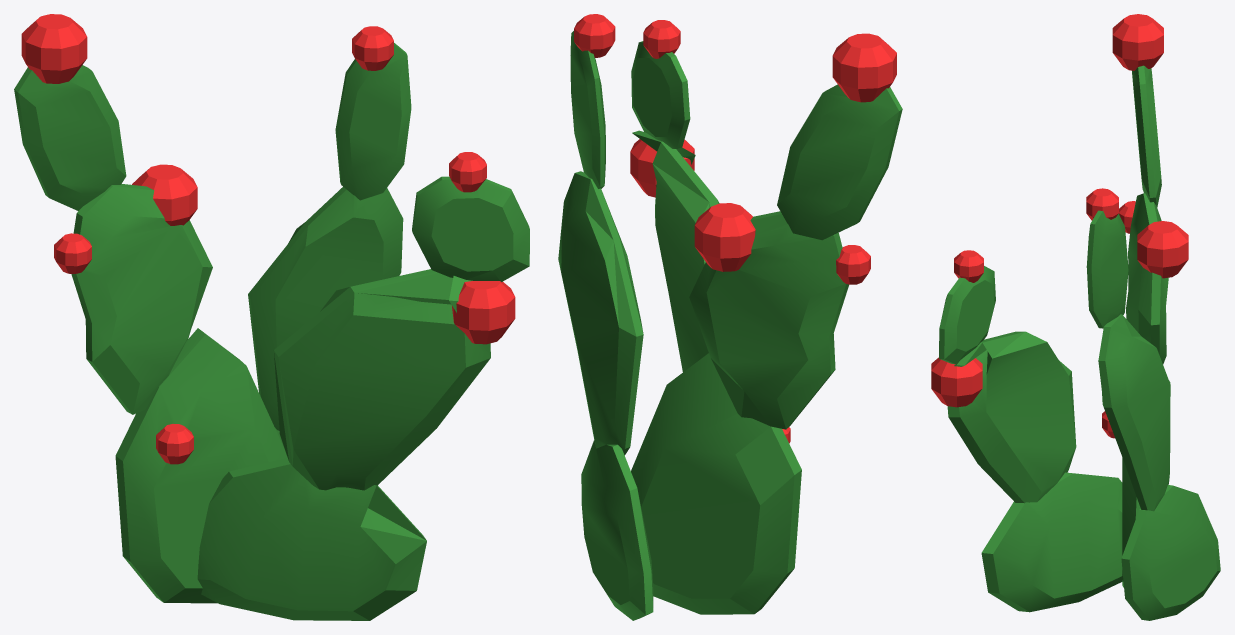
File: Cactus_14.fbx
The picture shows the model from 3 angles, left to right: view 1: azimuth 30°, elevation 25°; view 2: azimuth 150°, elevation 25°; view 3: azimuth 270°, elevation 25°; orthographic projection. The views are drawn at different scales.
Parts seen in each view (by area): view 1: Cactus_14; view 2: Cactus_14; view 3: Cactus_14.
Part boxes in pixels (left/top/right/bottom): Cactus_14: left=14, top=14, right=529, bottom=620; Cactus_14: left=558, top=14, right=902, bottom=620; Cactus_14: left=931, top=14, right=1220, bottom=620.
Bounding box in the file's own units: 40.59 × 61.02 × 31.64.
